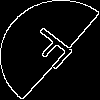F: (24, 25, 84, 77)
